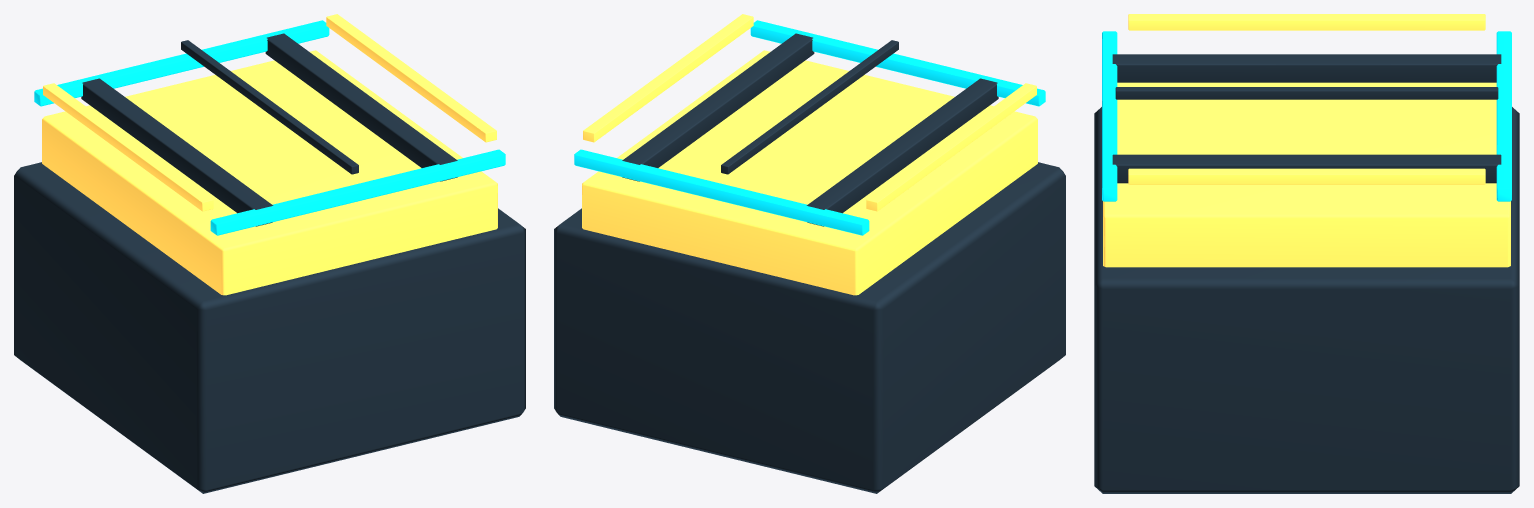
The model's file is start_line.glb.
The picture shows the model from 3 angles, left to right: view 1: azimuth 30°, elevation 25°; view 2: azimuth 150°, elevation 25°; view 3: azimuth 270°, elevation 25°; orthographic projection. The views are drawn at different scales.
Parts seen in each view (by area): view 1: StartLineBase, StartLineAmber, StartLineCutB, StartLineCutA, StartLineCyanTrimR, StartLineCyanTrimL, StartLinePulseA, StartLinePulseB, StartLineDarkDivider; view 2: StartLineBase, StartLineAmber, StartLineCutB, StartLineCutA, StartLineCyanTrimL, StartLineCyanTrimR, StartLinePulseA, StartLinePulseB, StartLineDarkDivider; view 3: StartLineBase, StartLineAmber, StartLineCutA, StartLineCutB, StartLinePulseA, StartLinePulseB, StartLineDarkDivider, StartLineCyanTrimL, StartLineCyanTrimR.
Part boxes in pixels (x1=…): StartLineBase: x1=14, y1=162, x2=525, y2=493; StartLineAmber: x1=42, y1=50, x2=497, y2=295; StartLineCutB: x1=265, y1=33, x2=457, y2=181; StartLineCutA: x1=81, y1=78, x2=273, y2=226; StartLineCyanTrimR: x1=210, y1=149, x2=505, y2=235; StartLineCyanTrimL: x1=34, y1=20, x2=329, y2=106; StartLinePulseA: x1=43, y1=83, x2=213, y2=211; StartLinePulseB: x1=326, y1=14, x2=496, y2=142; StartLineDarkDivider: x1=181, y1=40, x2=358, y2=174; StartLineBase: x1=554, y1=162, x2=1065, y2=493; StartLineAmber: x1=582, y1=50, x2=1037, y2=295; StartLineCutB: x1=622, y1=33, x2=814, y2=181; StartLineCutA: x1=806, y1=78, x2=998, y2=226; StartLineCyanTrimL: x1=574, y1=149, x2=869, y2=235; StartLineCyanTrimR: x1=750, y1=20, x2=1045, y2=106; StartLinePulseA: x1=866, y1=83, x2=1036, y2=211; StartLinePulseB: x1=583, y1=14, x2=753, y2=142; StartLineDarkDivider: x1=721, y1=40, x2=898, y2=174; StartLineBase: x1=1094, y1=107, x2=1519, y2=493; StartLineAmber: x1=1103, y1=82, x2=1510, y2=267; StartLineCutA: x1=1112, y1=54, x2=1501, y2=82; StartLineCutB: x1=1112, y1=154, x2=1501, y2=183; StartLinePulseA: x1=1128, y1=14, x2=1485, y2=30; StartLinePulseB: x1=1128, y1=168, x2=1485, y2=184; StartLineDarkDivider: x1=1115, y1=87, x2=1498, y2=99; StartLineCyanTrimL: x1=1496, y1=31, x2=1511, y2=201; StartLineCyanTrimR: x1=1102, y1=31, x2=1117, y2=201.
Size of the model in its own units: 0.5 by 0.414 by 0.5.
